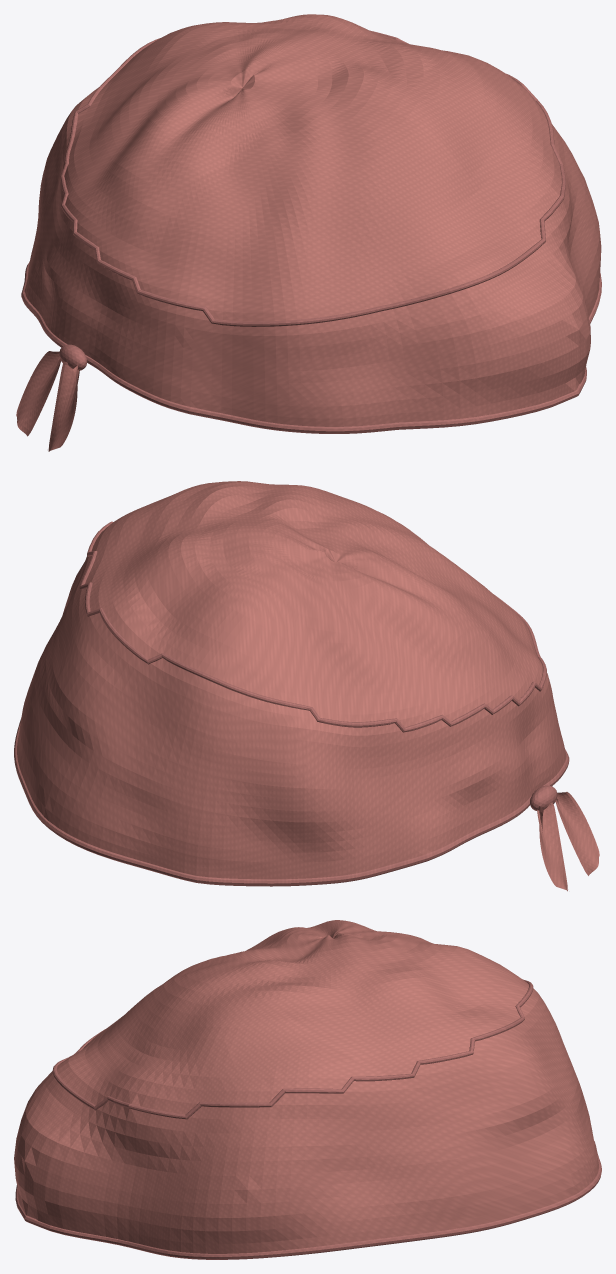
The model's file is side_bargeman_headcloth.glb.
3 renders of one model, top to bottom at view 1: azimuth 30°, elevation 25°; view 2: azimuth 150°, elevation 25°; view 3: azimuth 270°, elevation 25°, orthographic. The views are drawn at different scales.
Parts seen in each view (by area): view 1: wash_dyed_linen, sewn_fold; view 2: wash_dyed_linen, sewn_fold; view 3: wash_dyed_linen, sewn_fold.
Part boxes in pixels (left/top/right/bottom): wash_dyed_linen: left=16, top=14, right=601, bottom=451; sewn_fold: left=21, top=20, right=601, bottom=433; wash_dyed_linen: left=17, top=481, right=599, bottom=891; sewn_fold: left=14, top=521, right=569, bottom=886; wash_dyed_linen: left=14, top=920, right=598, bottom=1253; sewn_fold: left=15, top=979, right=601, bottom=1259.
Bounding box in the file's own units: 15.63 × 8.67 × 16.34.
Materials: 3 (3 with a texture image).
